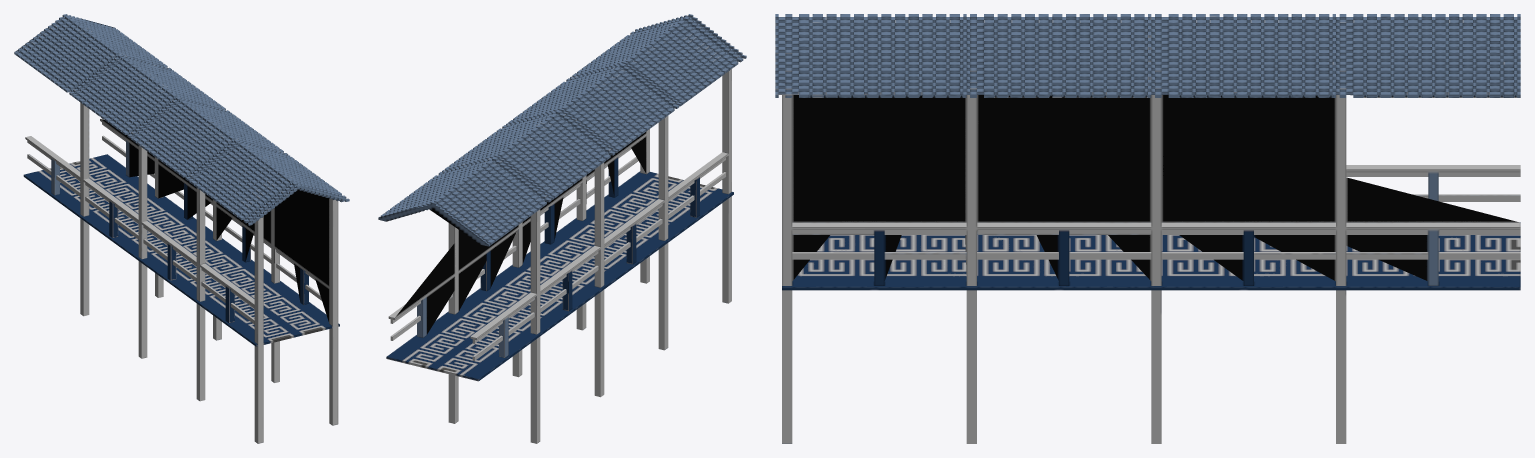
File: Trapiche-0.fbx
3 views of the same model, side by side, from view 1: azimuth 30°, elevation 25°; view 2: azimuth 150°, elevation 25°; view 3: azimuth 270°, elevation 25° (orthographic). The views are drawn at different scales.
Visible parts, largest first — view 1: Trapiche-0; view 2: Trapiche-0; view 3: Trapiche-0.
Part boxes in pixels (x1,y1,x2,y2): Trapiche-0: [14, 14, 349, 443]; Trapiche-0: [378, 14, 746, 443]; Trapiche-0: [775, 14, 1520, 443].
Size of the model in its own units: 540 by 1280 by 2180.
